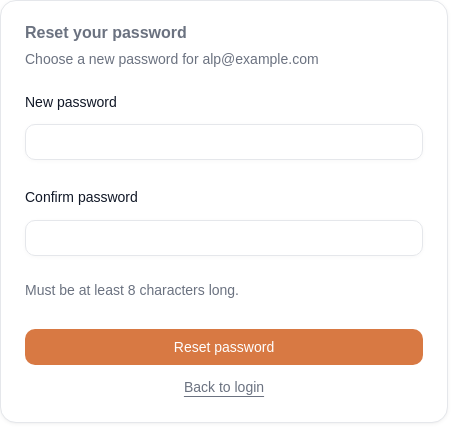
Test: ResetPasswordForm › resets the password with the email and token from the link
This screenshot has width=465, height=440.
Type "N3w-Password!" into the password field labelled "New password". click: (224, 142)
box: top-left (25, 124), bottom-right (423, 160)
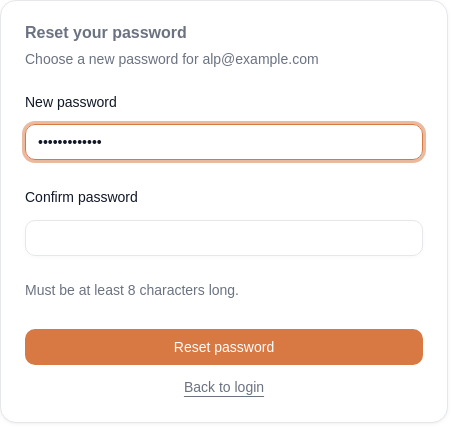
Type "N3w-Password!" into the password field labelled "Confirm password". click: (224, 238)
box: top-left (25, 220), bottom-right (423, 256)
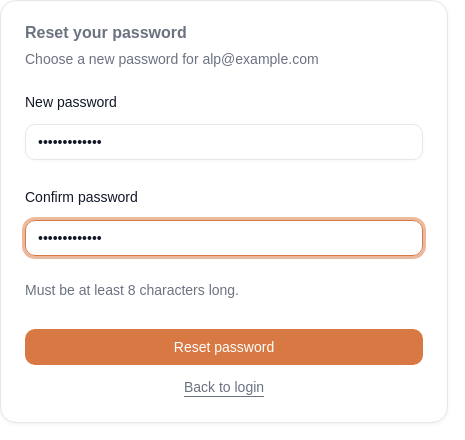
Click the button "Reset password". click: (224, 346)
box: top-left (25, 328), bottom-right (423, 364)
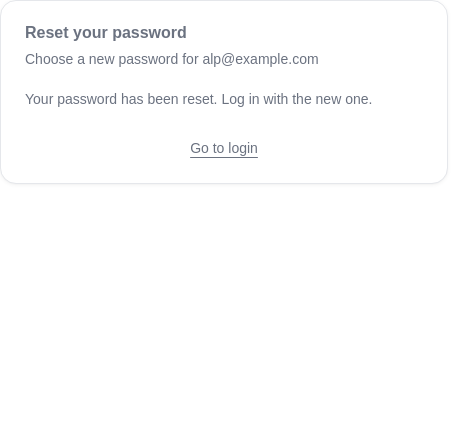
Expected: the text "Your password has been reset. Log in with the new one." is shown, top-left (25, 89), bottom-right (423, 110)
